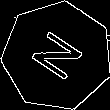N_SE: (25, 25, 89, 87)
